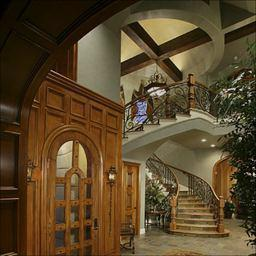Escaleras: (149, 150, 228, 241)
Puerta: (40, 119, 105, 255), (122, 164, 139, 225)
